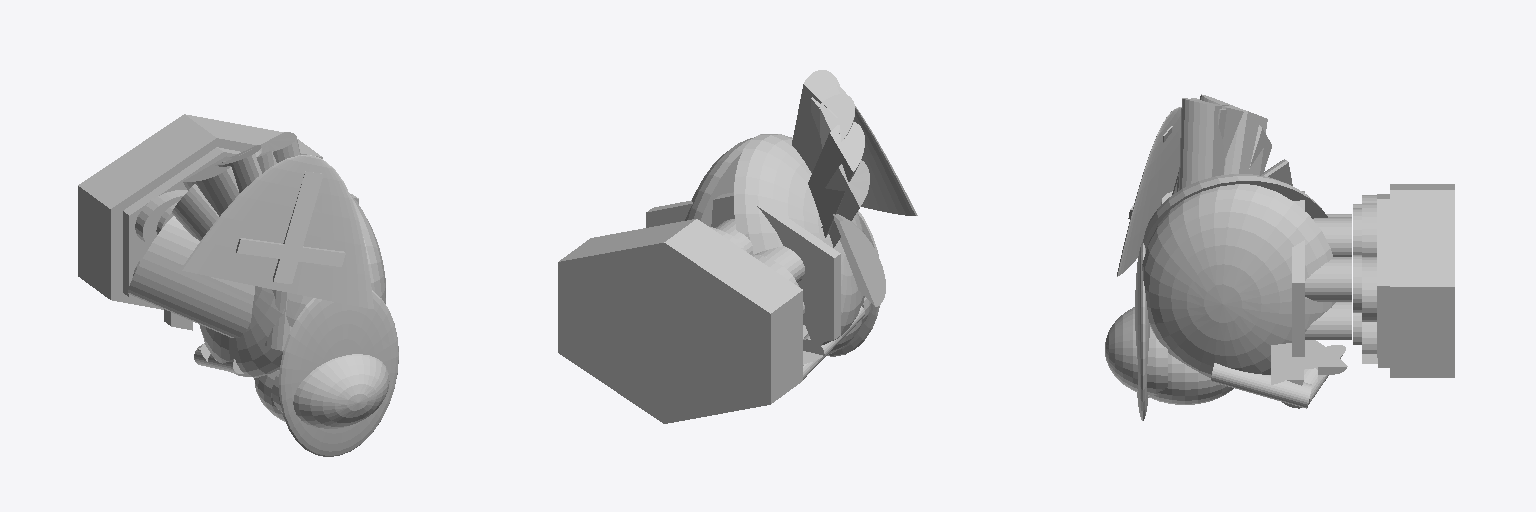
Rendered from pawn.obj.
The picture shows the model from 3 angles: view 1: azimuth 30°, elevation 25°; view 2: azimuth 150°, elevation 25°; view 3: azimuth 270°, elevation 25°; orthographic projection.
Visible parts, largest first — view 1: group_0_-328966 Mesh; view 2: group_0_-328966 Mesh; view 3: group_0_-328966 Mesh.
Part boxes in pixels (x1,y1,x2,y2): group_0_-328966 Mesh: (78, 114, 398, 456); group_0_-328966 Mesh: (558, 70, 917, 423); group_0_-328966 Mesh: (1105, 94, 1454, 420).
Size of the model in its own units: 16.09 by 19.29 by 20.